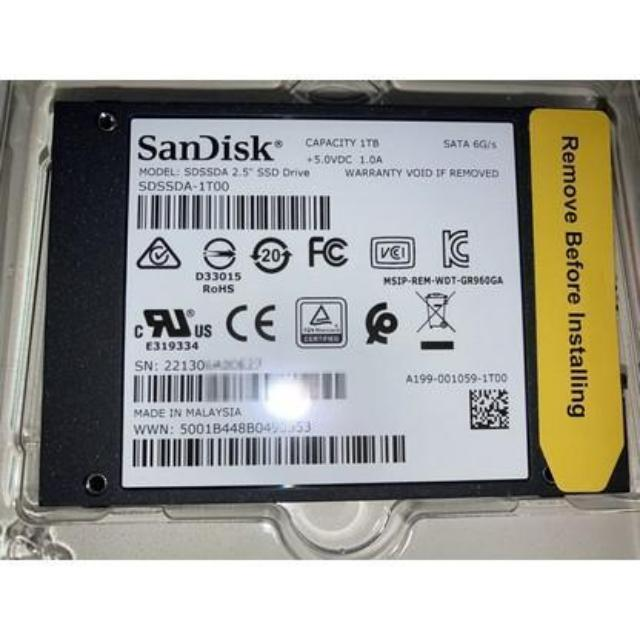DISK: (28, 91, 640, 528)
